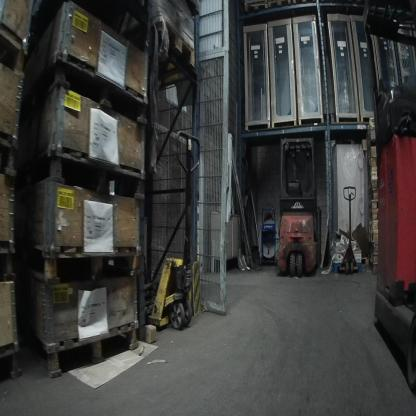forklift: (363, 3, 416, 395), (277, 136, 317, 278)
pallet: (38, 51, 149, 126), (27, 144, 145, 201), (36, 320, 139, 380), (26, 243, 142, 284), (154, 19, 196, 69), (0, 21, 23, 78), (0, 338, 22, 382), (0, 129, 16, 176), (0, 240, 15, 288), (332, 263, 362, 275), (244, 1, 268, 14), (268, 1, 291, 9), (366, 147, 376, 160), (369, 253, 378, 266), (292, 0, 315, 5), (366, 137, 376, 148), (366, 130, 375, 141), (367, 158, 376, 169), (369, 222, 378, 233), (369, 233, 378, 244), (369, 242, 378, 253), (368, 117, 375, 131), (369, 264, 377, 276), (367, 168, 377, 177), (368, 176, 377, 186), (368, 194, 377, 204), (368, 186, 377, 195), (369, 203, 378, 212), (369, 213, 378, 222)
pallet_truck: (144, 131, 200, 330), (339, 185, 359, 274)
